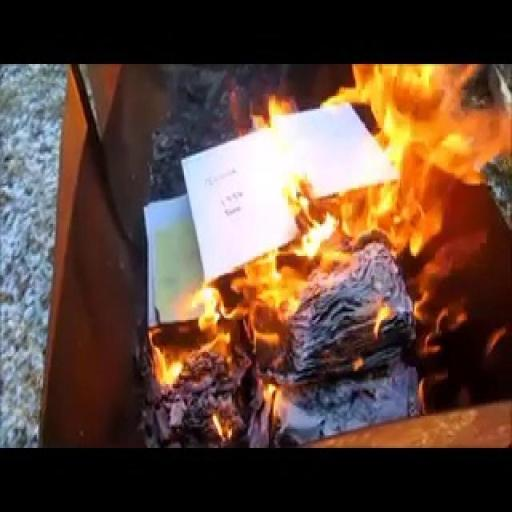smoke: (221, 64, 469, 320), (138, 308, 232, 412)
